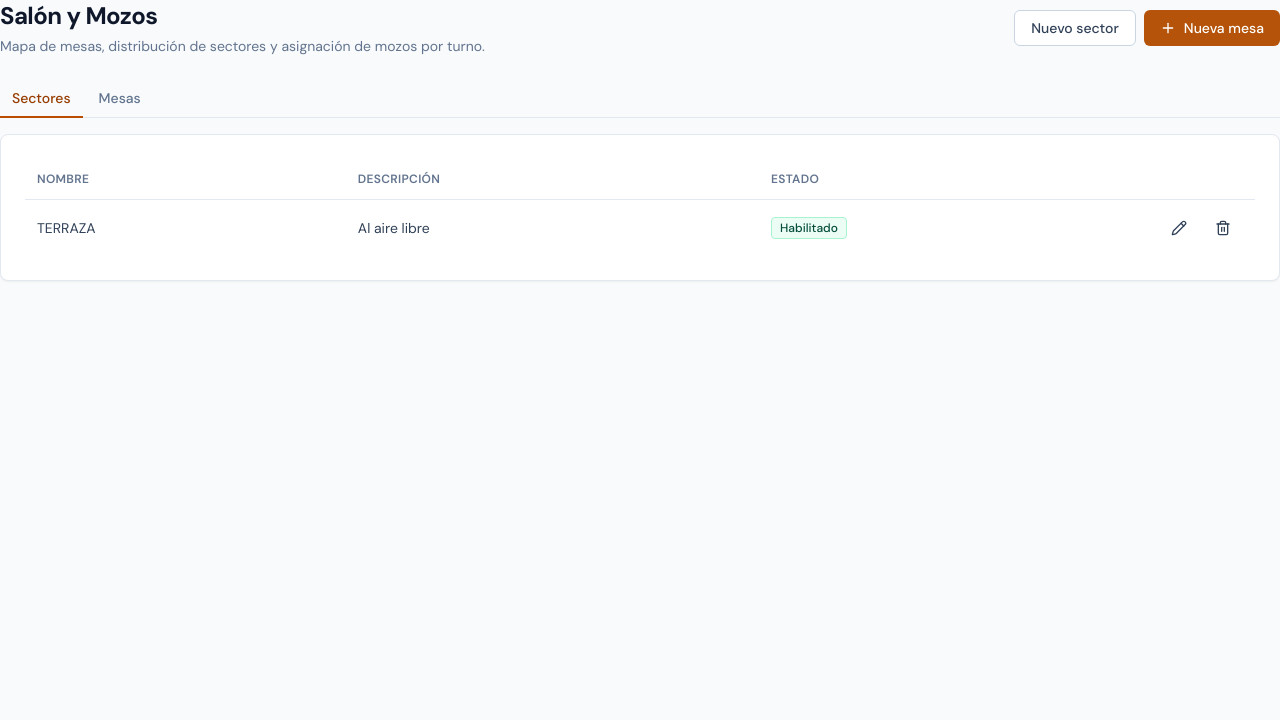
Scenario: SalonPage: edición de sector › abre el diálogo precargado desde la fila (escenario Editar desde la fila)
Click the button named "Editar «Terraza»": [1179, 228] box [1159,212,1199,244]
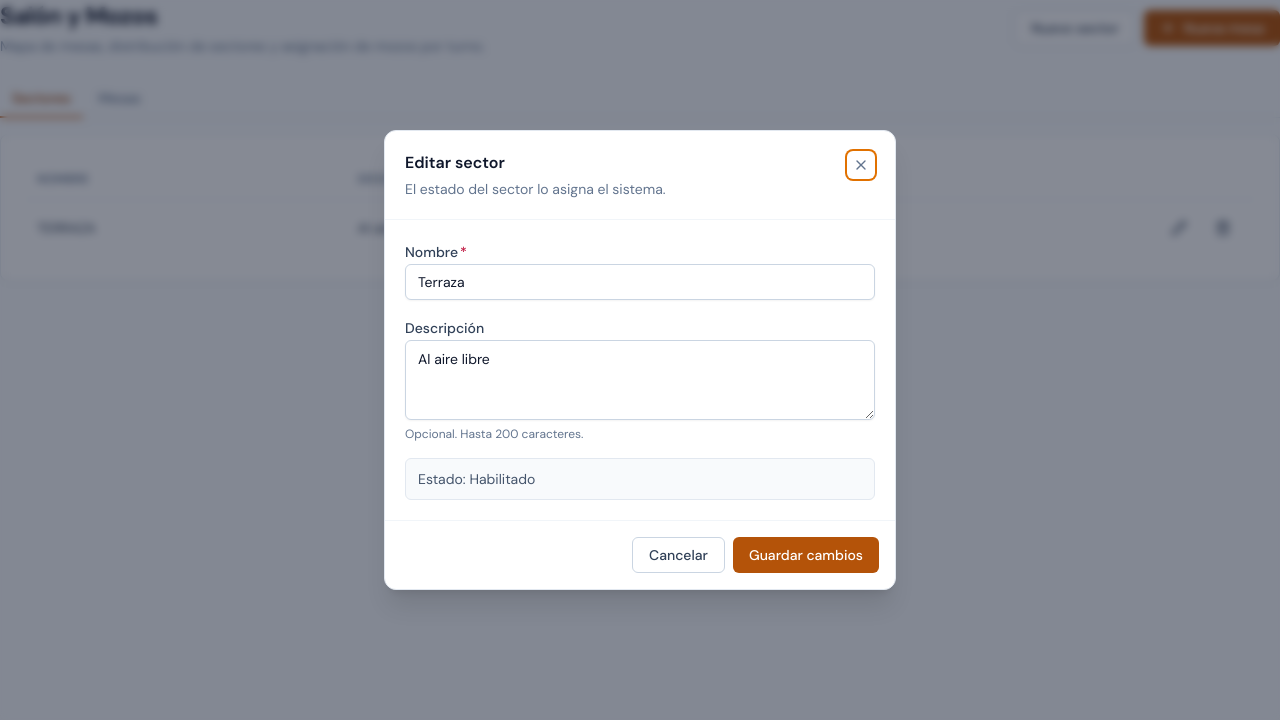
Expected: the field labelled "Nombre*" holds "Terraza", [405,264,875,300]
Expected: the text box labelled "Descripción" holds "Al aire libre", [405,340,875,420]
